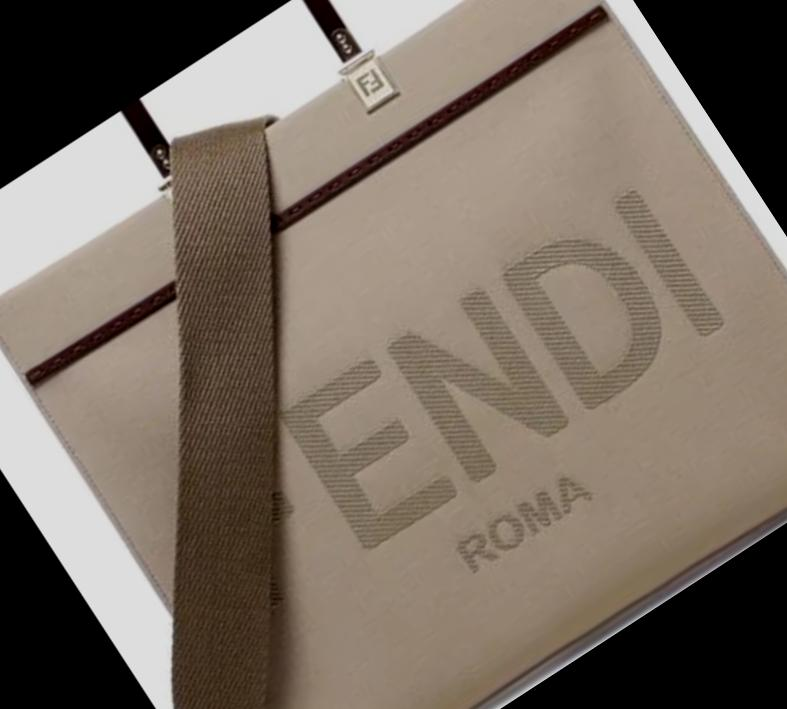FENDI: (182, 183, 726, 618)
